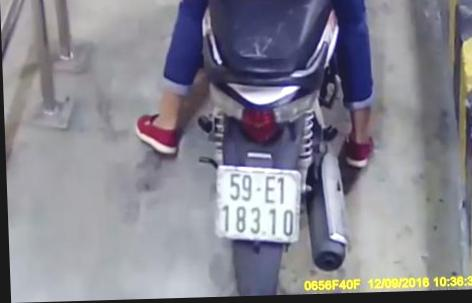License_Plate: (206, 157, 311, 250)
